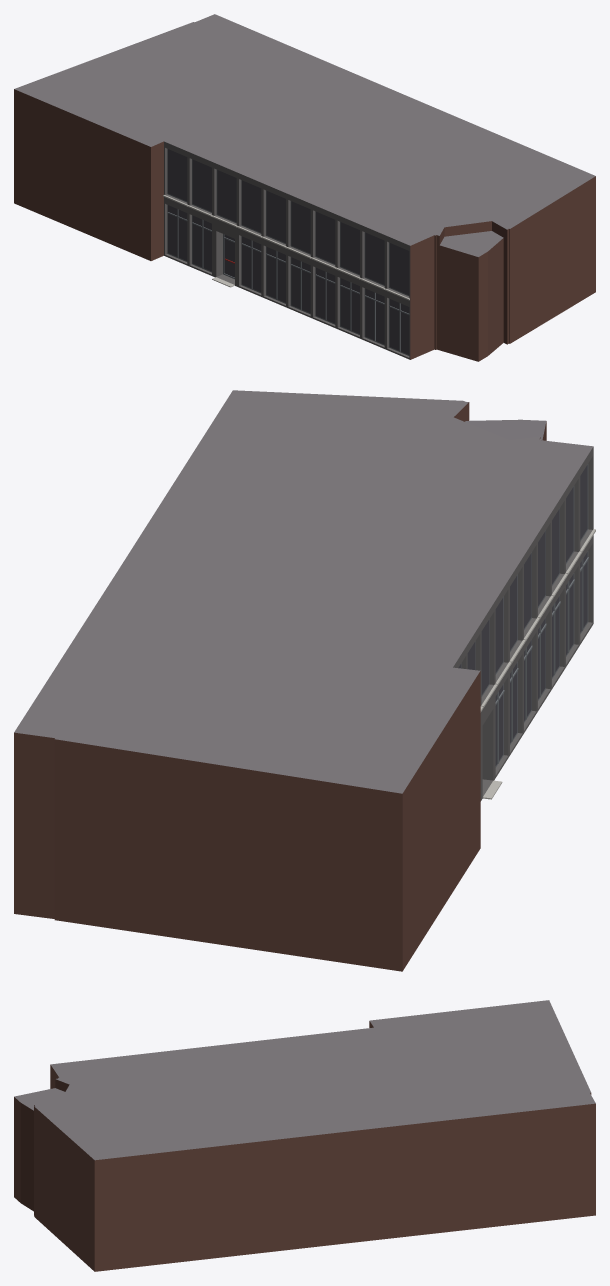
The model's file is recipe-large-politie-zuidoost-gaasperdam.glb.
3 views of the same model, one above another, from view 1: azimuth 30°, elevation 25°; view 2: azimuth 150°, elevation 25°; view 3: azimuth 270°, elevation 25° (orthographic). The views are drawn at different scales.
Visible parts, largest first — view 1: politie-zuidoost-gaasperdam; view 2: politie-zuidoost-gaasperdam; view 3: politie-zuidoost-gaasperdam.
Boxes of the visible parts, left/top/right/bottom form: politie-zuidoost-gaasperdam: left=14, top=14, right=595, bottom=361; politie-zuidoost-gaasperdam: left=14, top=390, right=595, bottom=971; politie-zuidoost-gaasperdam: left=14, top=1000, right=595, bottom=1271.
Size of the model in its own units: 23.5 by 7.57 by 35.69.
